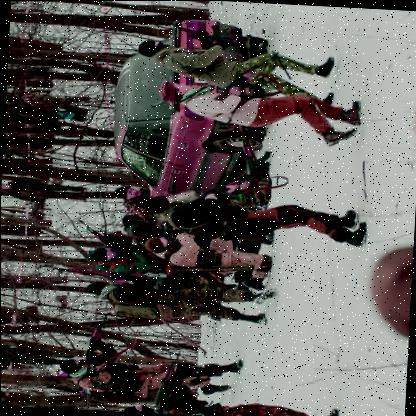rifle: (213, 47, 276, 104), (75, 217, 145, 260), (170, 19, 257, 51), (235, 128, 284, 184), (150, 358, 189, 415), (34, 263, 145, 283), (80, 311, 117, 367), (202, 174, 249, 205)
